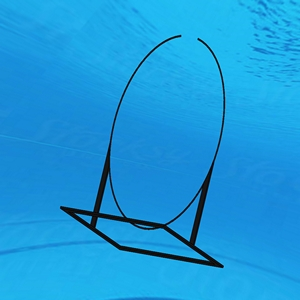circle: (58, 31, 227, 269)
